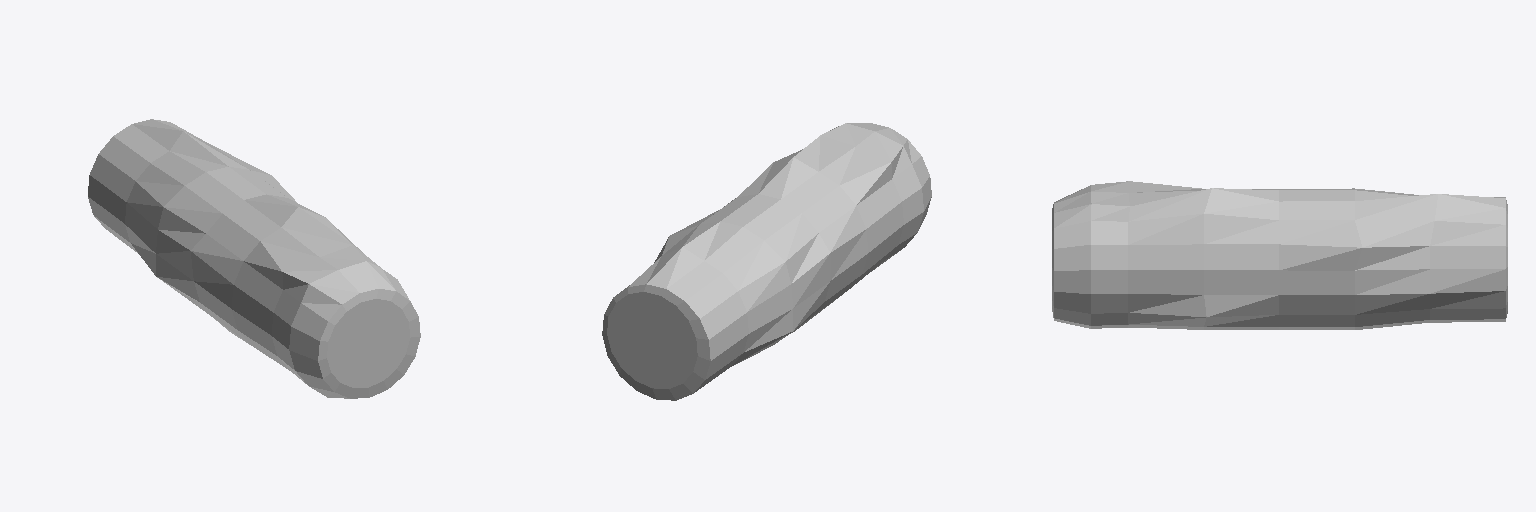
File: wood.obj
3 views of the same model, side by side, from view 1: azimuth 30°, elevation 25°; view 2: azimuth 150°, elevation 25°; view 3: azimuth 270°, elevation 25° (orthographic).
Parts seen in each view (by area): view 1: Wood.001_Cylinder.006; view 2: Wood.001_Cylinder.006; view 3: Wood.001_Cylinder.006.
Part boxes in pixels (bbox=[...]): Wood.001_Cylinder.006: bbox=[88, 119, 420, 398]; Wood.001_Cylinder.006: bbox=[602, 123, 931, 400]; Wood.001_Cylinder.006: bbox=[1052, 181, 1507, 329].
Bounding box in the file's own units: 2.07 × 2.23 × 6.4.